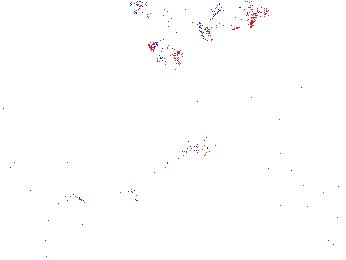X-ray fish: (153, 125, 178, 165)
glassfish: (118, 134, 220, 208)
redtail glassfish: (128, 1, 217, 46), (208, 1, 266, 28), (148, 36, 181, 70)
